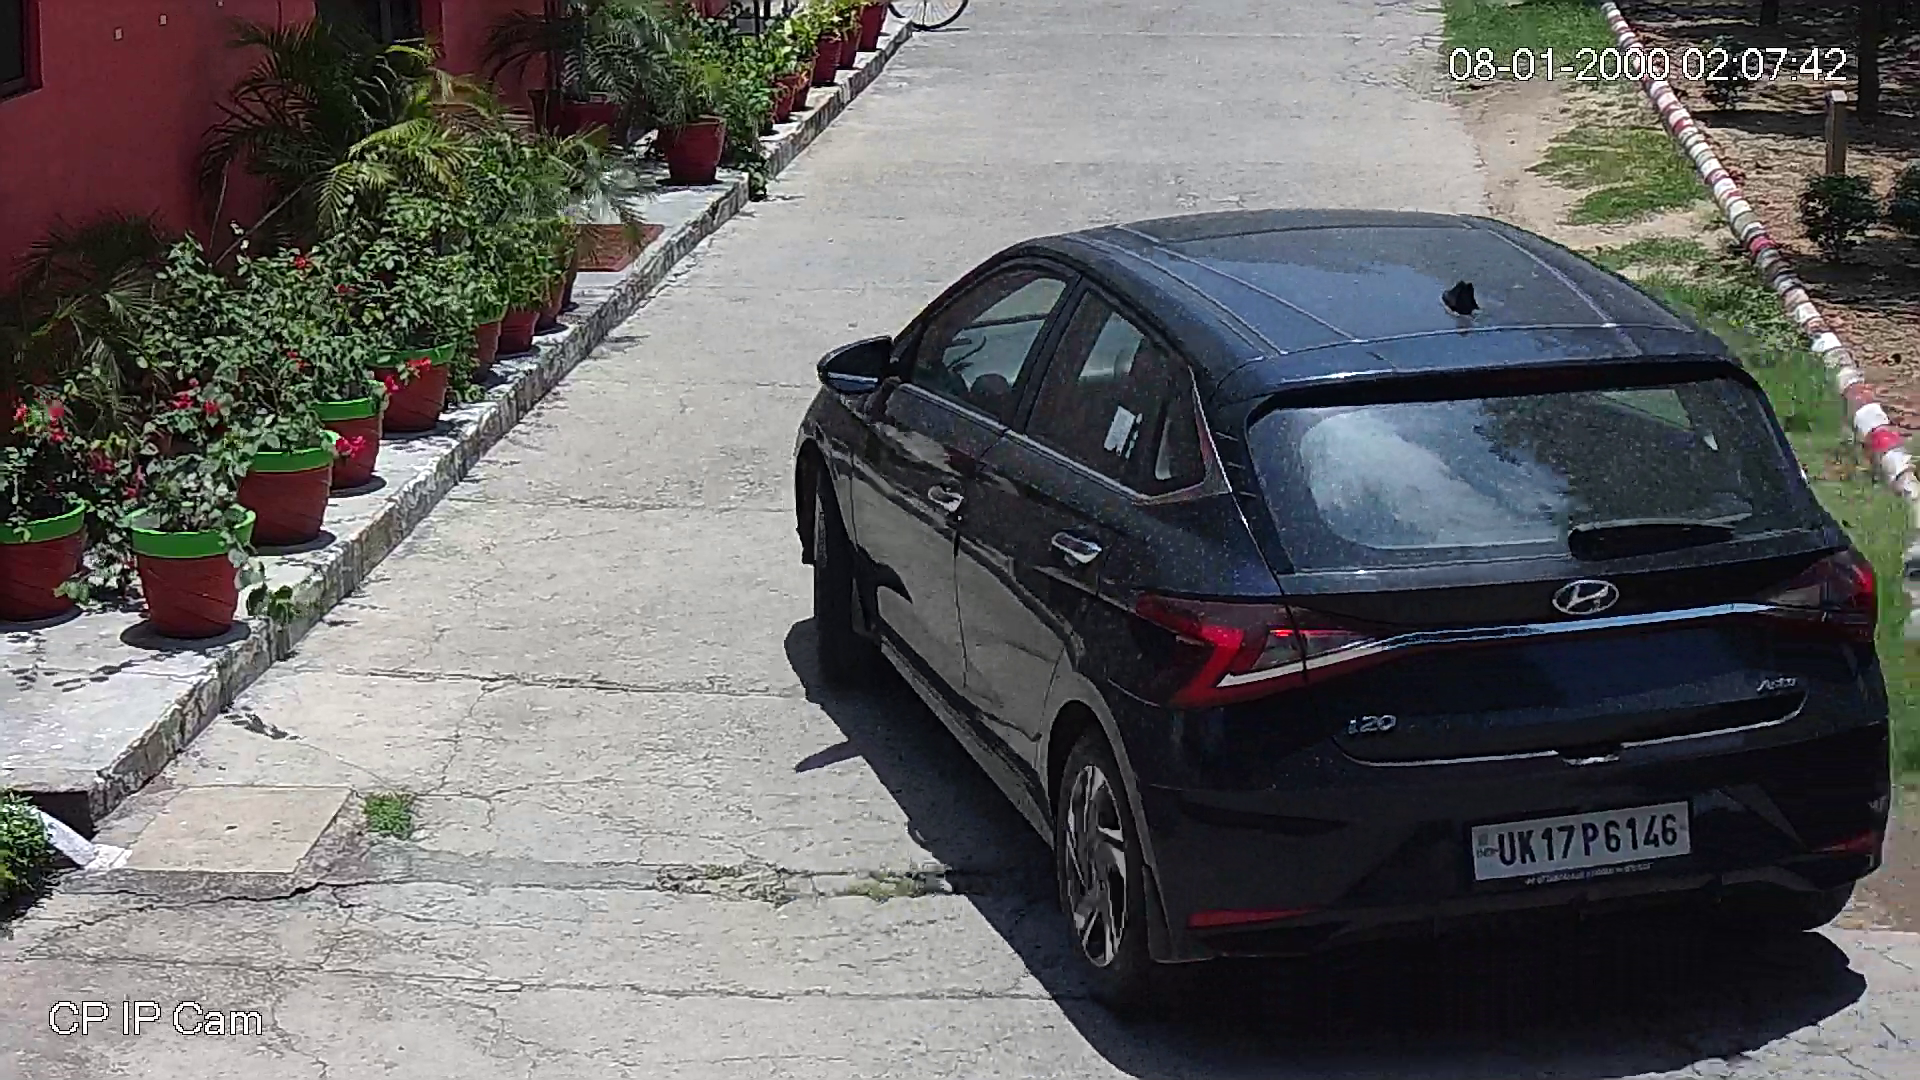plate: (1465, 784, 1697, 895)
